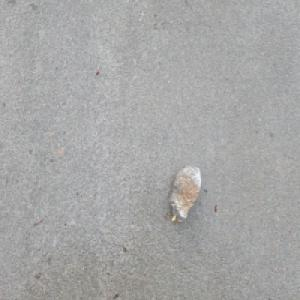Rock: (167, 163, 201, 225)
